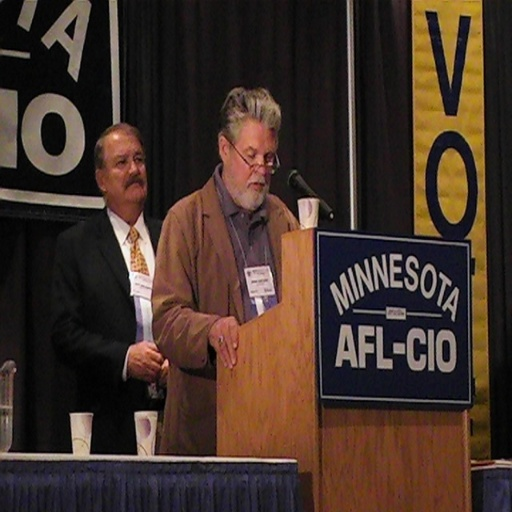hand: (115, 339, 156, 392), (208, 313, 240, 371), (156, 357, 171, 387)
